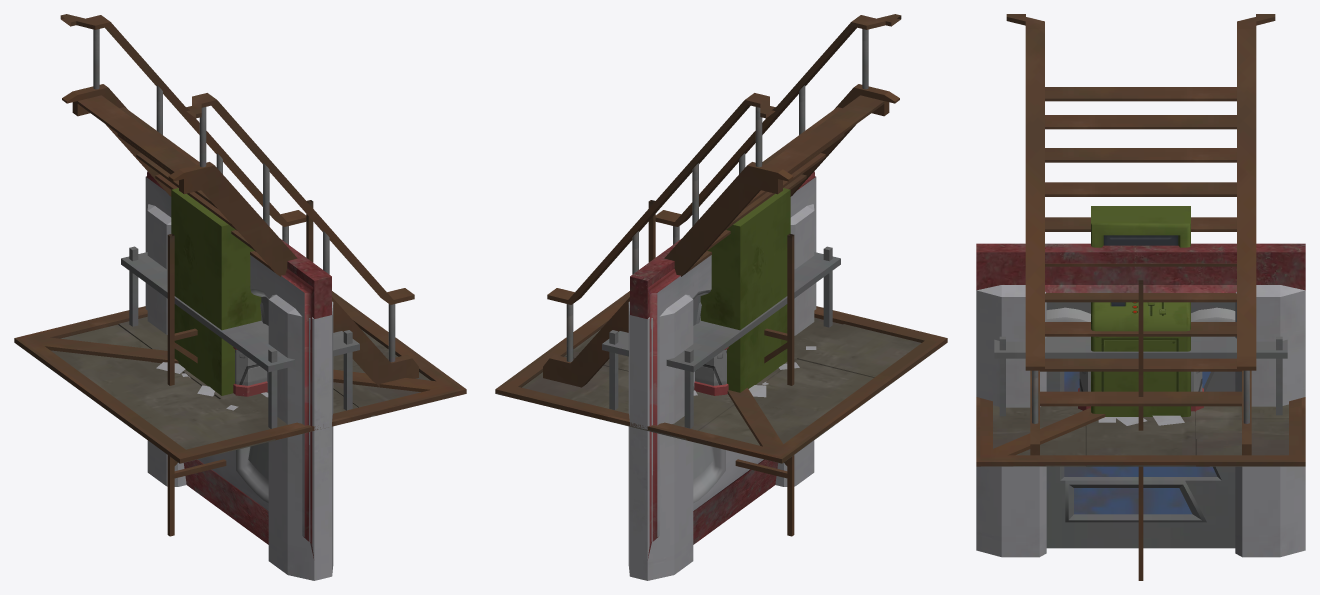
File: factory_kit.glb
The picture shows the model from 3 angles, left to right: view 1: azimuth 30°, elevation 25°; view 2: azimuth 150°, elevation 25°; view 3: azimuth 270°, elevation 25°; orthographic projection.
Visible parts, largest first — view 1: Factory_Modules:Stairs_Factory_Modules:M_RustedMetal_0, Factory_Modules:DoorFrame, Factory_Modules:Concrete_Ground_Factory_Modules:M_Concrete_0, Factory_Modules:Console_Panel_Factory_Modules:M_1024_0, Factory_Modules:Wall_Type3_Factory_Modules:M_1024_0, Factory_Modules:Grate_Panel_Factory_Modules:M_RustedMetal_0, Factory_Modules:Shelf_Unit_Factory_Modules:M_Metals_0, Factory_Modules:Rusted_Panel_Factory_Modules:M_RustedMetal_0, Factory_Modules:Brace_Factory_Modules:M_RustedMetal_0, Factory_Modules:Wall_Type3_Factory_Modules:M_Metals_0, Factory_Modules:Crate_Factory_Modules:M_1024_0; view 2: Factory_Modules:Stairs_Factory_Modules:M_RustedMetal_0, Factory_Modules:DoorFrame, Factory_Modules:Concrete_Ground_Factory_Modules:M_Concrete_0, Factory_Modules:Console_Panel_Factory_Modules:M_1024_0, Factory_Modules:Wall_Type3_Factory_Modules:M_1024_0, Factory_Modules:Grate_Panel_Factory_Modules:M_RustedMetal_0, Factory_Modules:Shelf_Unit_Factory_Modules:M_Metals_0, Factory_Modules:Rusted_Panel_Factory_Modules:M_RustedMetal_0, Factory_Modules:Brace_Factory_Modules:M_RustedMetal_0, Factory_Modules:Wall_Type3_Factory_Modules:M_Metals_0, Factory_Modules:Crate_Factory_Modules:M_1024_0; view 3: Factory_Modules:Stairs_Factory_Modules:M_RustedMetal_0, Factory_Modules:DoorFrame, Factory_Modules:Door, Factory_Modules:Console_Panel_Factory_Modules:M_1024_0, Factory_Modules:Concrete_Ground_Factory_Modules:M_Concrete_0, Factory_Modules:Shelf_Unit_Factory_Modules:M_Metals_0, Factory_Modules:Grate_Panel_Factory_Modules:M_RustedMetal_0, Factory_Modules:Rusted_Panel_Factory_Modules:M_RustedMetal_0, Factory_Modules:Brace_Factory_Modules:M_RustedMetal_0, Factory_Modules:Wall_Type3_Factory_Modules:M_Metals_0, Factory_Modules:Crate_Factory_Modules:M_1024_0, Factory_Modules:Broken_Plates_Factory_Modules:M_1024_0.
Boxes of the visible parts, bbox=[...] form: Factory_Modules:Stairs_Factory_Modules:M_RustedMetal_0: bbox=[60, 14, 418, 386]; Factory_Modules:DoorFrame: bbox=[147, 204, 333, 580]; Factory_Modules:Concrete_Ground_Factory_Modules:M_Concrete_0: bbox=[17, 316, 430, 463]; Factory_Modules:Console_Panel_Factory_Modules:M_1024_0: bbox=[171, 188, 261, 395]; Factory_Modules:Wall_Type3_Factory_Modules:M_1024_0: bbox=[145, 171, 314, 558]; Factory_Modules:Grate_Panel_Factory_Modules:M_RustedMetal_0: bbox=[20, 294, 460, 456]; Factory_Modules:Shelf_Unit_Factory_Modules:M_Metals_0: bbox=[121, 246, 359, 428]; Factory_Modules:Rusted_Panel_Factory_Modules:M_RustedMetal_0: bbox=[14, 291, 466, 463]; Factory_Modules:Brace_Factory_Modules:M_RustedMetal_0: bbox=[167, 200, 313, 536]; Factory_Modules:Wall_Type3_Factory_Modules:M_Metals_0: bbox=[236, 289, 269, 503]; Factory_Modules:Crate_Factory_Modules:M_1024_0: bbox=[233, 347, 267, 396]; Factory_Modules:Stairs_Factory_Modules:M_RustedMetal_0: bbox=[543, 14, 901, 387]; Factory_Modules:DoorFrame: bbox=[628, 204, 814, 580]; Factory_Modules:Concrete_Ground_Factory_Modules:M_Concrete_0: bbox=[495, 317, 944, 463]; Factory_Modules:Console_Panel_Factory_Modules:M_1024_0: bbox=[700, 188, 790, 392]; Factory_Modules:Wall_Type3_Factory_Modules:M_1024_0: bbox=[647, 171, 816, 558]; Factory_Modules:Grate_Panel_Factory_Modules:M_RustedMetal_0: bbox=[501, 294, 941, 456]; Factory_Modules:Shelf_Unit_Factory_Modules:M_Metals_0: bbox=[602, 246, 840, 428]; Factory_Modules:Rusted_Panel_Factory_Modules:M_RustedMetal_0: bbox=[495, 291, 947, 463]; Factory_Modules:Brace_Factory_Modules:M_RustedMetal_0: bbox=[648, 200, 794, 536]; Factory_Modules:Wall_Type3_Factory_Modules:M_Metals_0: bbox=[692, 289, 725, 503]; Factory_Modules:Crate_Factory_Modules:M_1024_0: bbox=[694, 347, 728, 395]; Factory_Modules:Stairs_Factory_Modules:M_RustedMetal_0: bbox=[1006, 14, 1275, 455]; Factory_Modules:DoorFrame: bbox=[976, 243, 1305, 557]; Factory_Modules:Door: bbox=[1046, 302, 1235, 548]; Factory_Modules:Console_Panel_Factory_Modules:M_1024_0: bbox=[1091, 206, 1190, 416]; Factory_Modules:Concrete_Ground_Factory_Modules:M_Concrete_0: bbox=[981, 404, 1305, 466]; Factory_Modules:Shelf_Unit_Factory_Modules:M_Metals_0: bbox=[994, 336, 1287, 416]; Factory_Modules:Grate_Panel_Factory_Modules:M_RustedMetal_0: bbox=[980, 398, 1301, 460]; Factory_Modules:Rusted_Panel_Factory_Modules:M_RustedMetal_0: bbox=[976, 397, 1305, 466]; Factory_Modules:Brace_Factory_Modules:M_RustedMetal_0: bbox=[1138, 280, 1143, 580]; Factory_Modules:Wall_Type3_Factory_Modules:M_Metals_0: bbox=[1046, 307, 1235, 321]; Factory_Modules:Crate_Factory_Modules:M_1024_0: bbox=[1078, 371, 1203, 411]; Factory_Modules:Broken_Plates_Factory_Modules:M_1024_0: bbox=[1098, 415, 1184, 425].
Size of the model in its own units: 3 by 4.81 by 3.
5 materials, 5 textured.
